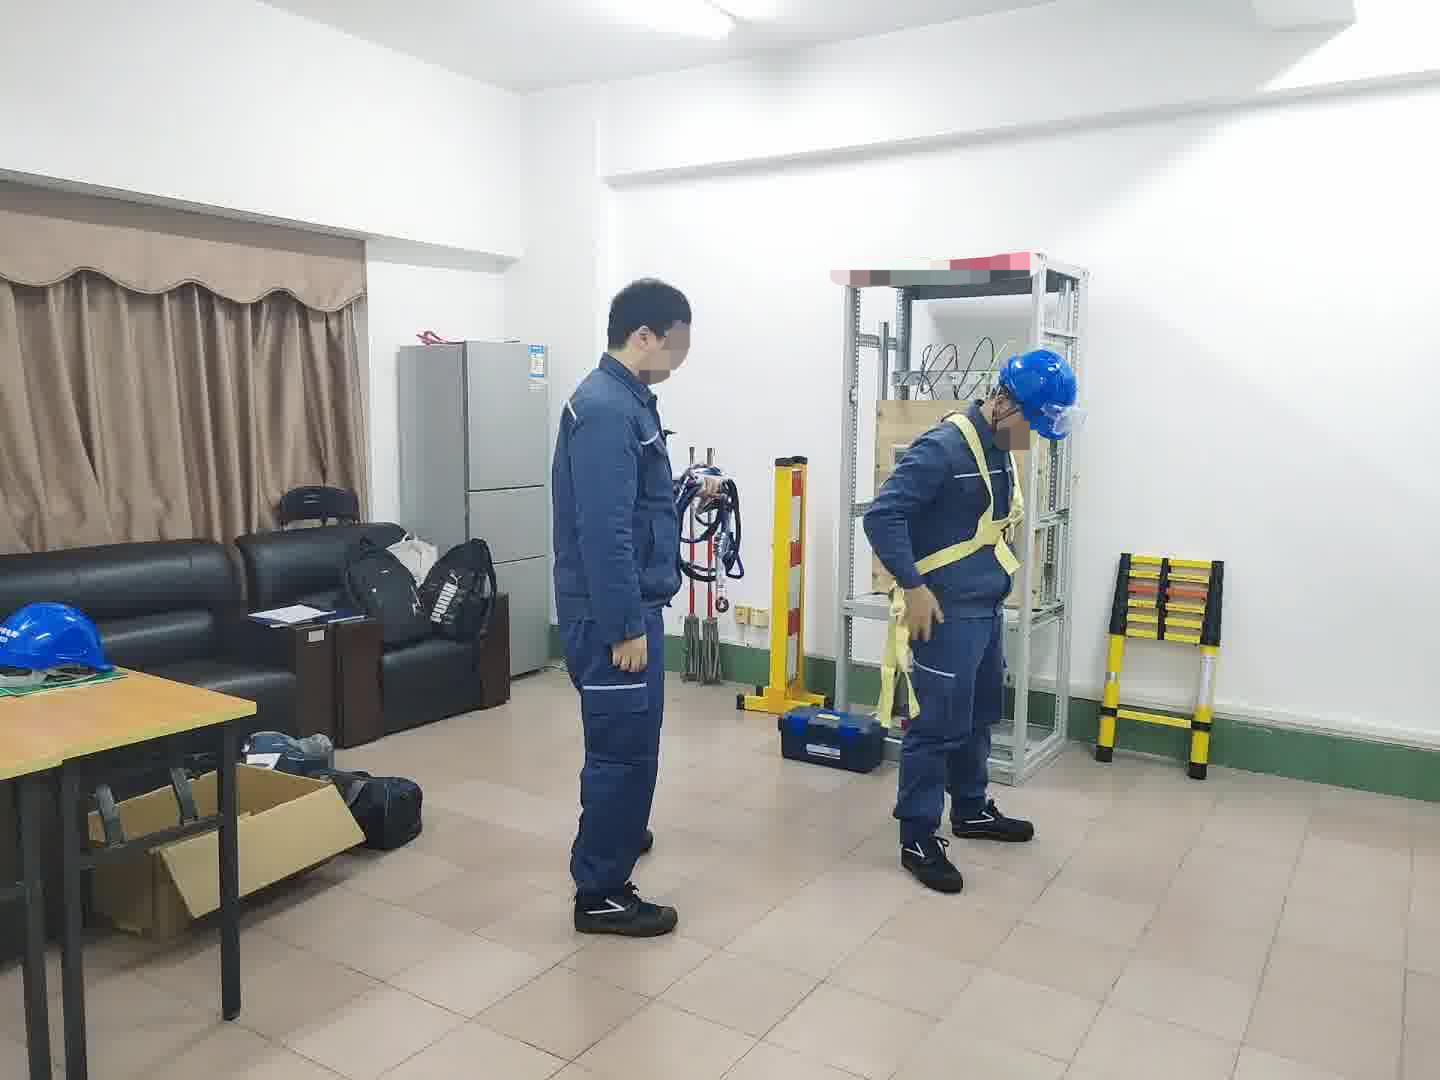halt: (998, 349, 1081, 449)
inear: (990, 386, 1025, 434)
noear: (627, 321, 663, 368)
unhalt: (605, 280, 697, 383)
